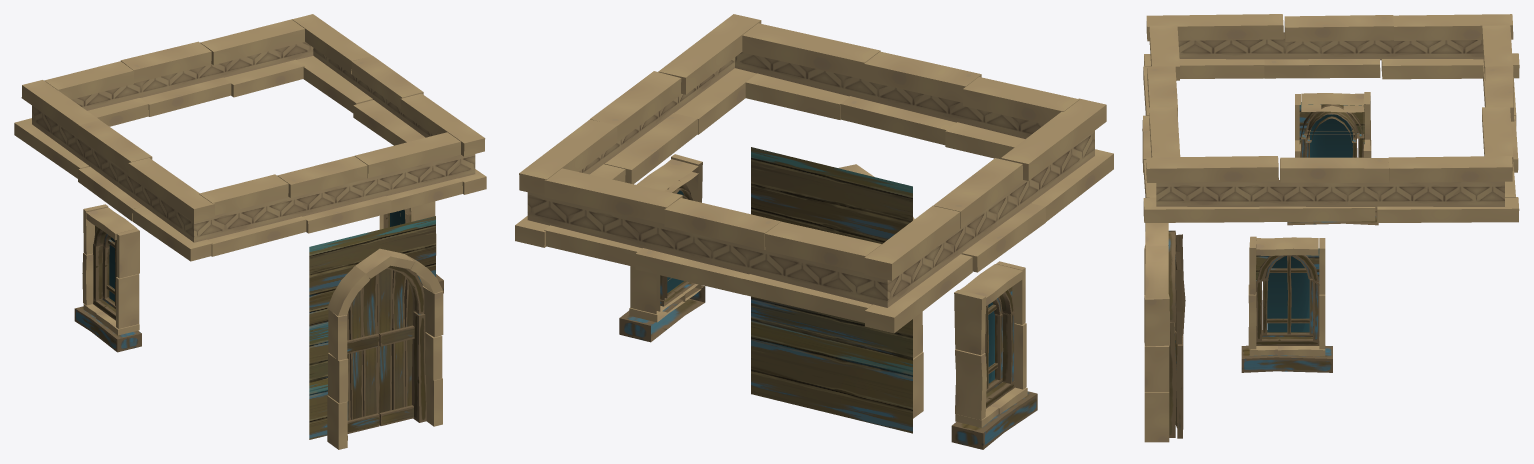
File: A_Small_BuildingBlock_B_KitPart.FBX
The picture shows the model from 3 angles, left to right: view 1: azimuth 30°, elevation 25°; view 2: azimuth 150°, elevation 25°; view 3: azimuth 270°, elevation 25°; orthographic projection. The views are drawn at different scales.
Parts seen in each view (by area): view 1: A_Small_BuildingBlock_B_KitPart; view 2: A_Small_BuildingBlock_B_KitPart; view 3: A_Small_BuildingBlock_B_KitPart.
Part boxes in pixels (x1=…): A_Small_BuildingBlock_B_KitPart: x1=14, y1=14, x2=486, y2=449; A_Small_BuildingBlock_B_KitPart: x1=515, y1=14, x2=1113, y2=449; A_Small_BuildingBlock_B_KitPart: x1=1142, y1=14, x2=1519, y2=442.
Size of the model in its own units: 395 by 342 by 392.
1 material, 1 textured.
